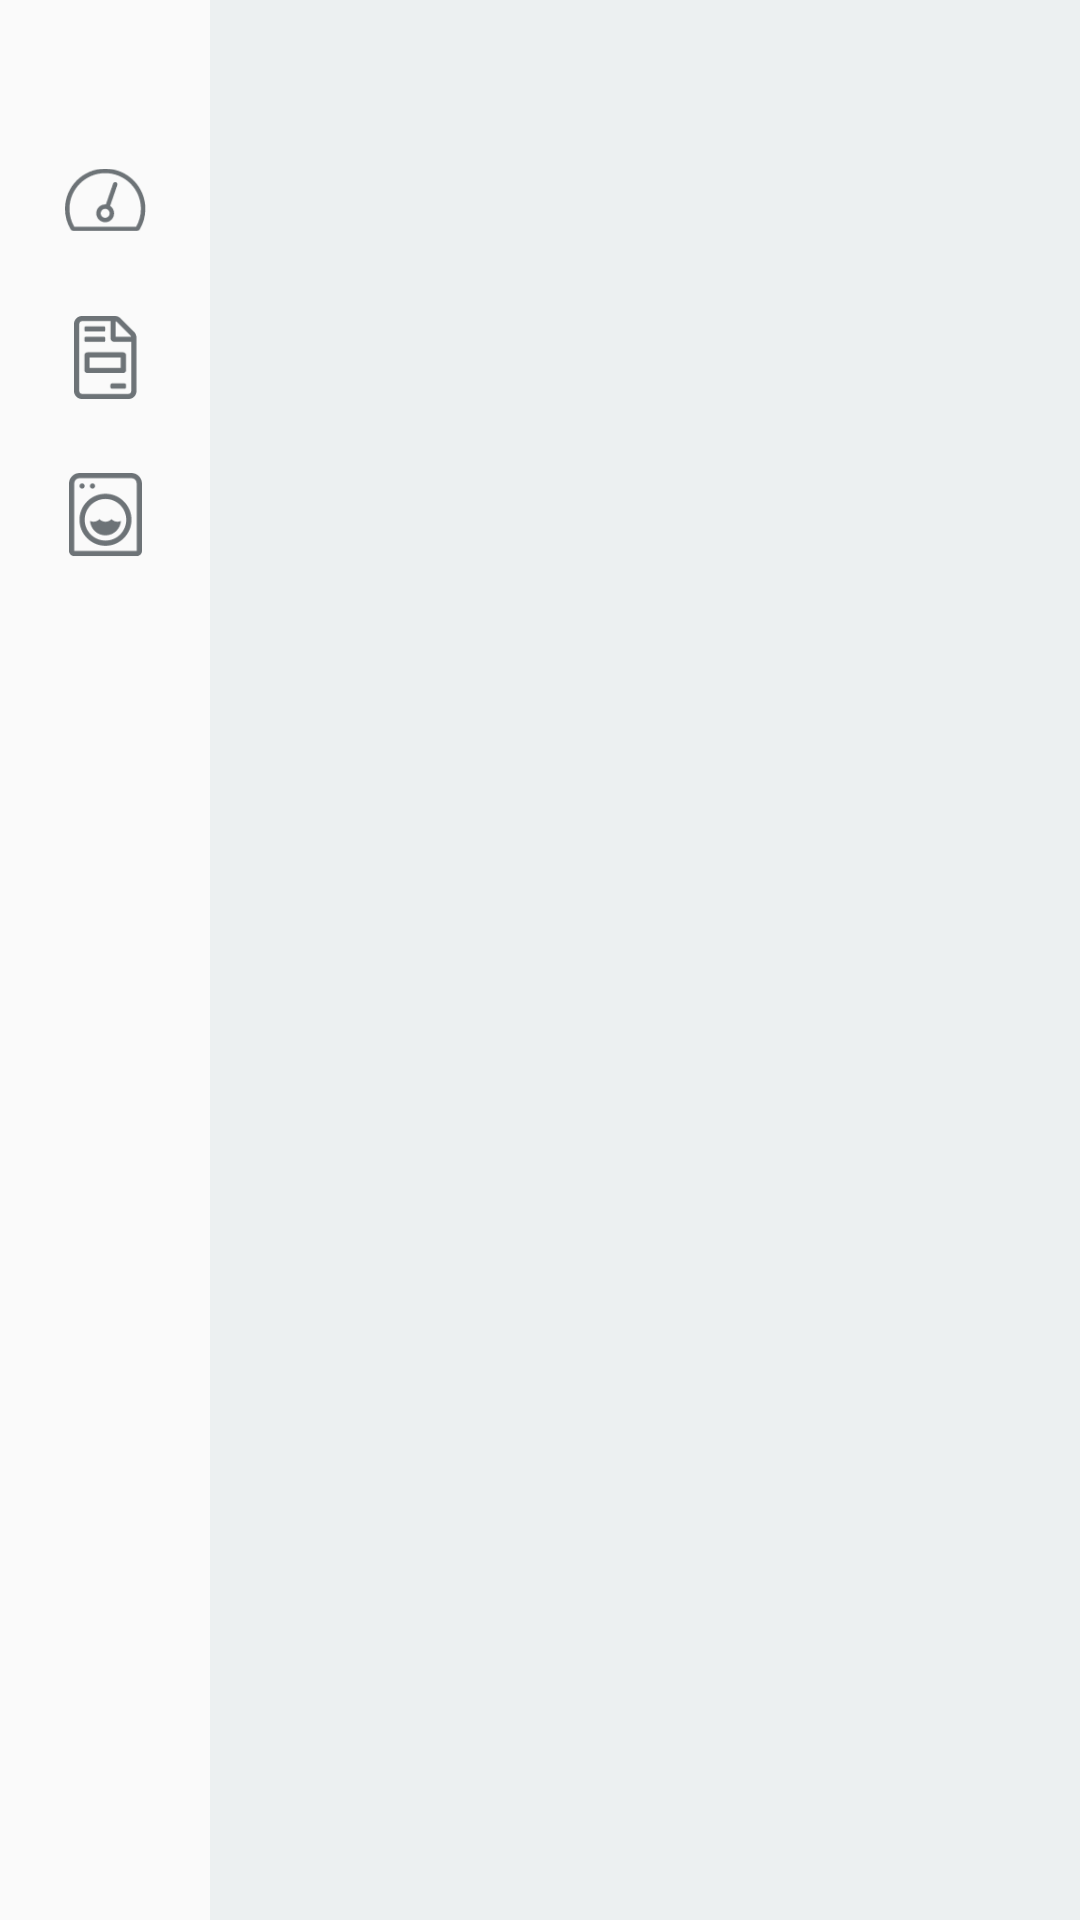

Named icons in this screenshot (1080px x 1920px) and their bounding boxes, (x1, y1, x2, y2):
dashboard: (65, 169, 146, 231)
equipment: (69, 473, 142, 556)
jobs: (74, 316, 137, 399)
